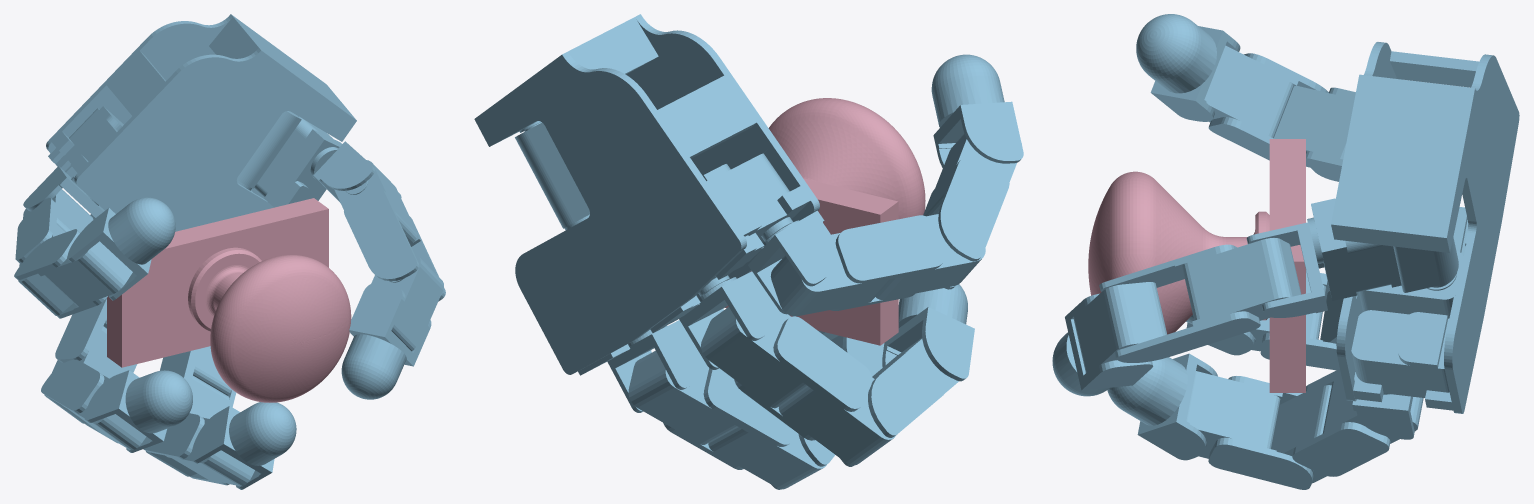
The picture shows the model from 3 angles, left to right: view 1: azimuth 30°, elevation 25°; view 2: azimuth 150°, elevation 25°; view 3: azimuth 270°, elevation 25°; orthographic projection. The views are drawn at different scales.
Visible parts, largest first — view 1: world, door_knob.stl; view 2: world, door_knob.stl; view 3: world, door_knob.stl.
Part boxes in pixels (box(x1,y1,x2,y2)): world: box(14, 14, 445, 489); door_knob.stl: box(107, 198, 351, 402); world: box(474, 14, 1023, 489); door_knob.stl: box(725, 98, 925, 345); world: box(1052, 14, 1519, 489); door_knob.stl: box(1088, 139, 1305, 392).
Bounding box in the file's own units: 0.1771 × 0.1789 × 0.1609.
